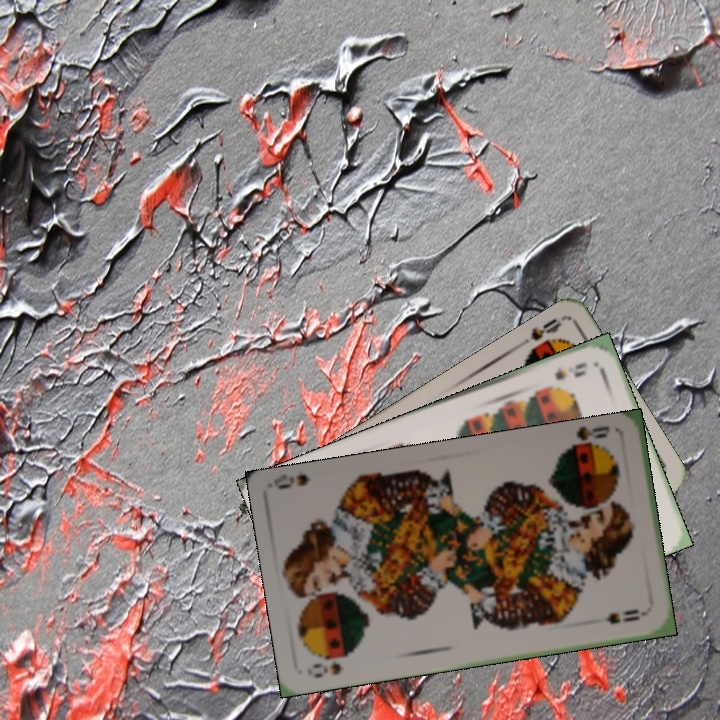S9: (550, 358, 590, 383)
SO: (510, 314, 564, 362), (561, 421, 612, 455), (308, 651, 351, 681)
